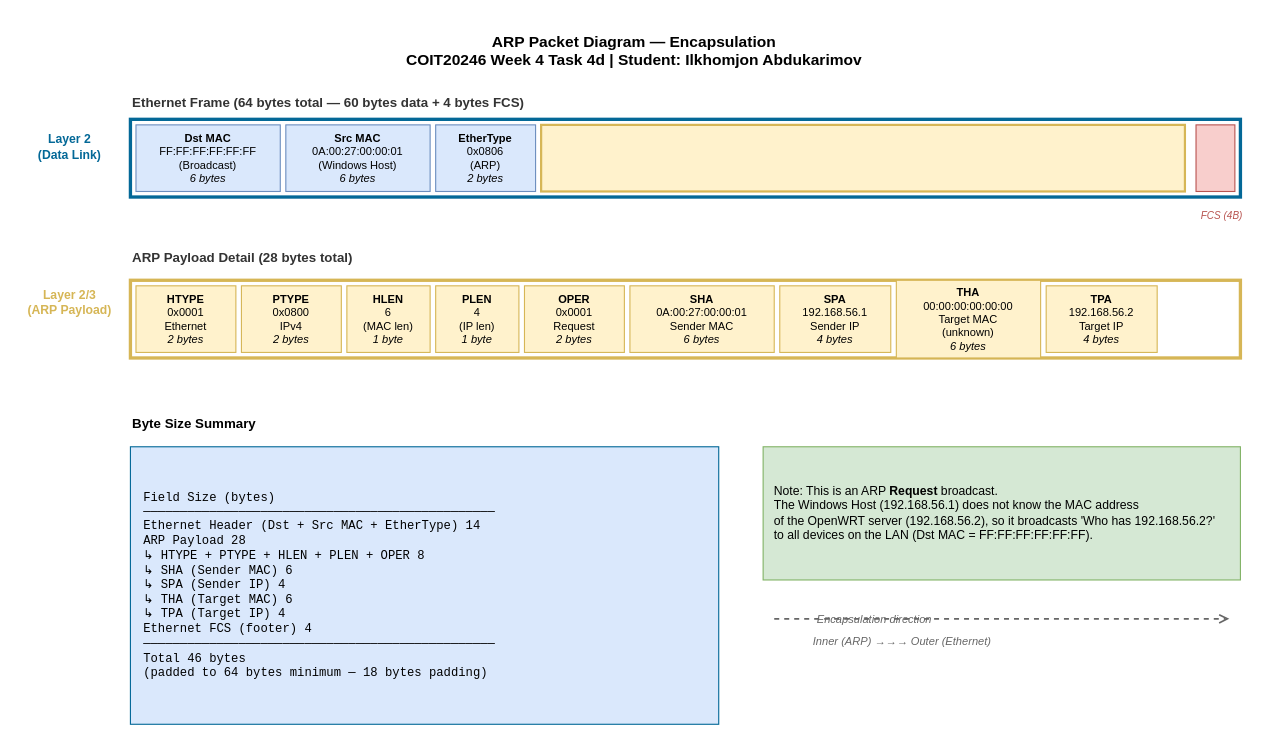
Some shapes in this 1264 by 744 pixel diagram are drawn without their labels. Here are the shapes that lost their labels. From the top down, the centre of each, then its label:
point (862, 157): ARP Payload — 28 bytes
point (1215, 157): FCS (CRC) 4 bytes
